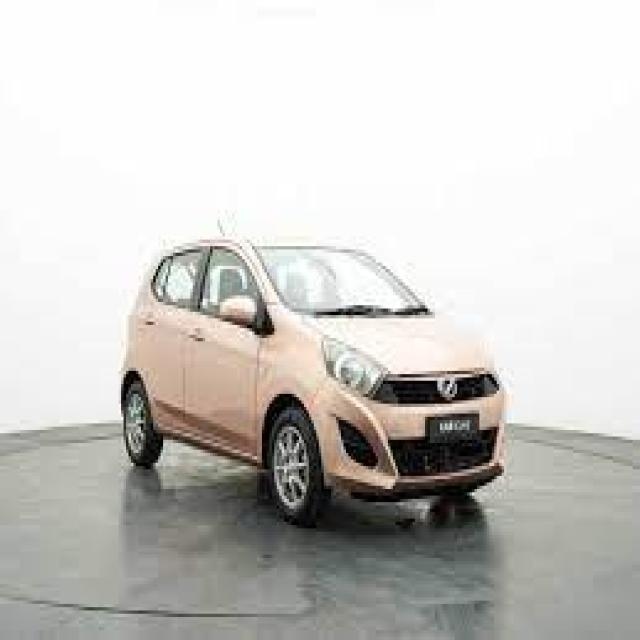PeroduaAxia: (116, 226, 509, 528)
